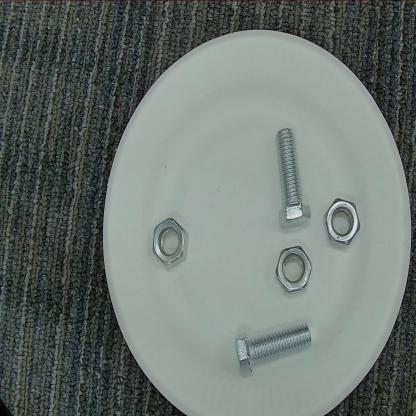FOD: (233, 321, 317, 380), (271, 122, 313, 233), (148, 212, 191, 273), (320, 193, 362, 250), (273, 243, 315, 299)
